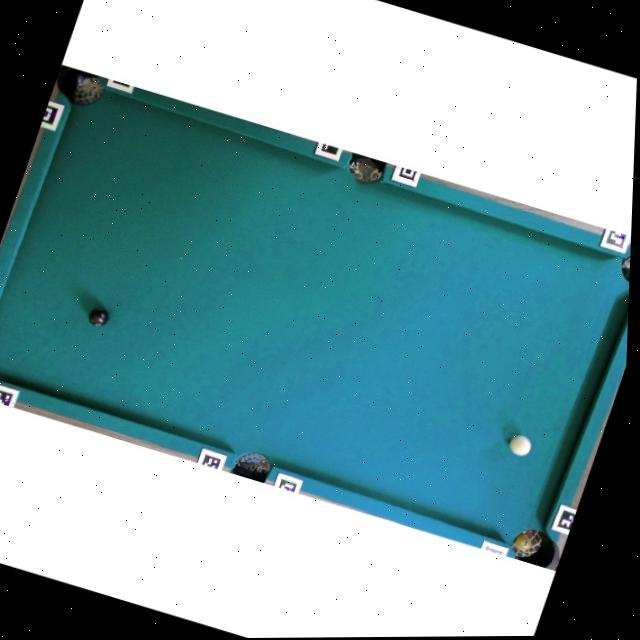cue ball: (505, 431, 534, 459)
other: (85, 305, 110, 329)
